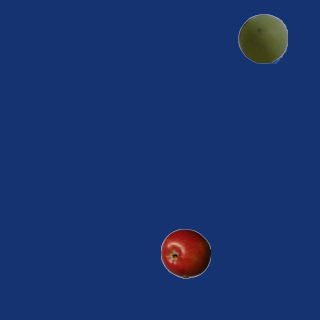Apple Braeburn: (160, 228, 210, 278)
Grape White 4: (237, 13, 287, 63)
